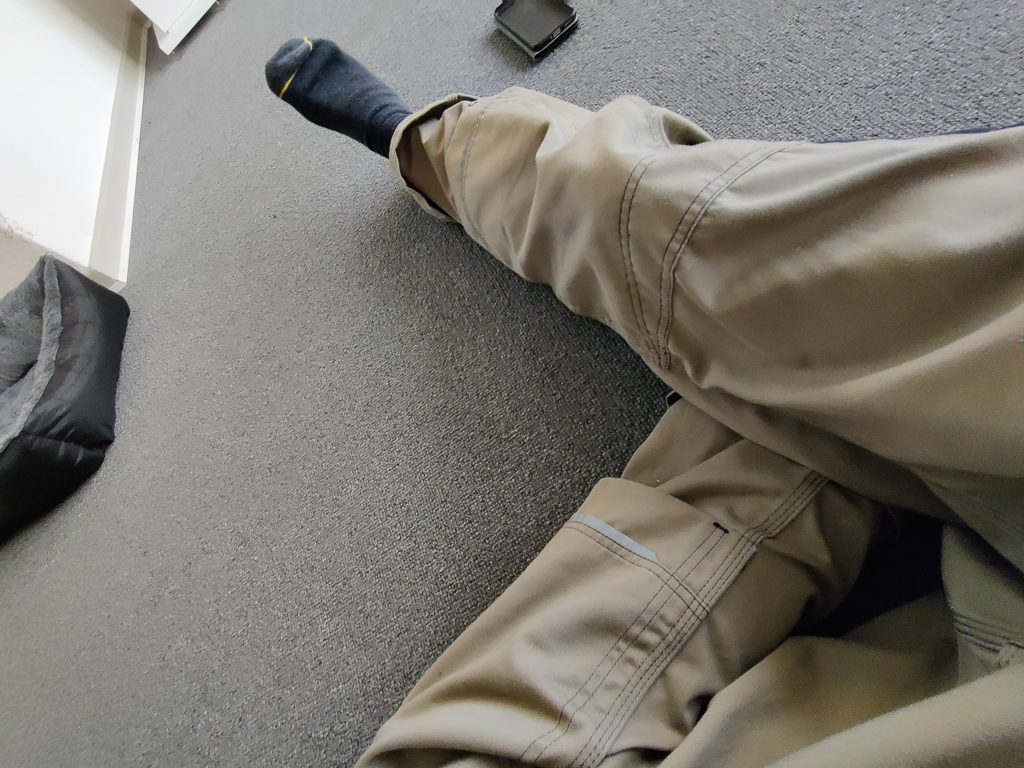Humanoid: (258, 28, 1024, 768)
